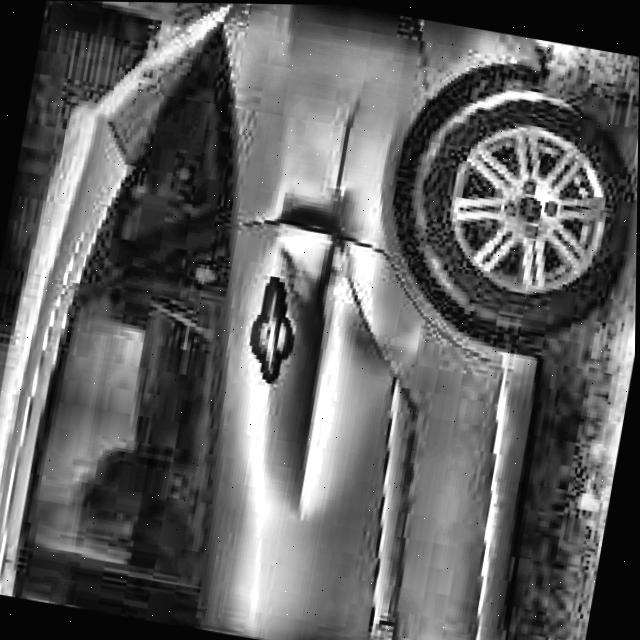door_dent: (235, 234, 418, 527)
door_scratch: (297, 64, 396, 362), (345, 352, 429, 640)
